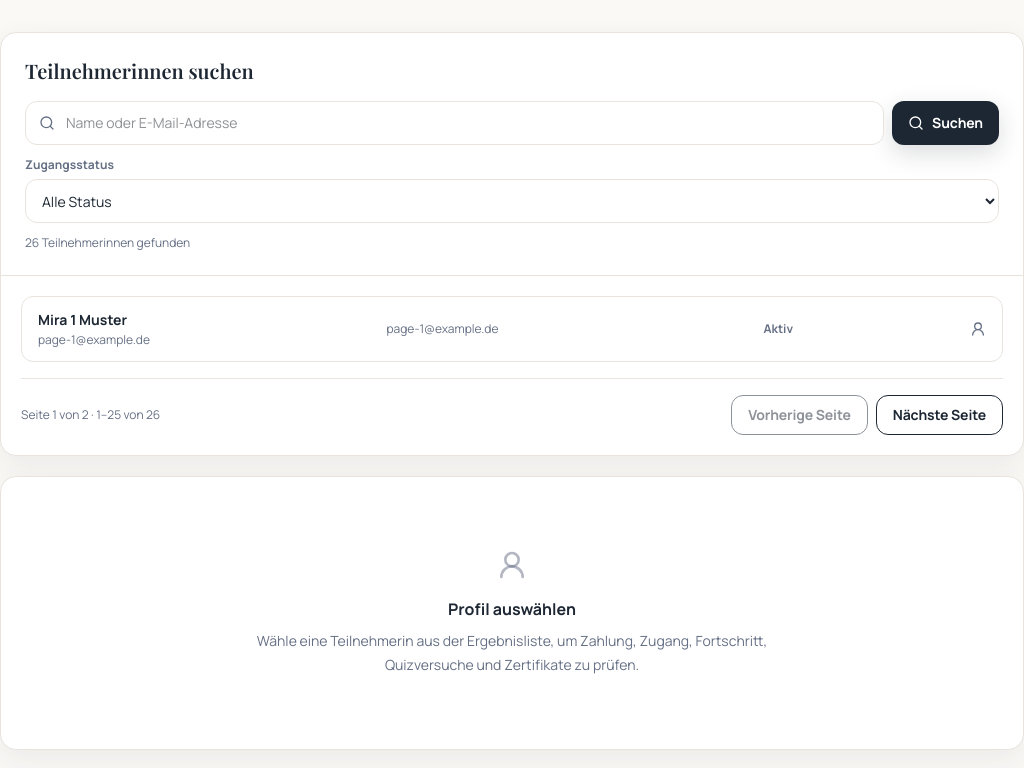
Test case: Admin-Teilnehmerverwaltung › macht Ergebnisse nach dem ersten 25er-Block über die Pagination erreichbar
Expected: the text "Mira 1 Muster" is shown, [38,310,127,329]
Expected: the text "Seite 1 von 2 · 1–25 von 26" is shown, [21,407,160,423]
Click the button "Nächste Seite".
click(939, 415)  # box [876,395,1003,435]
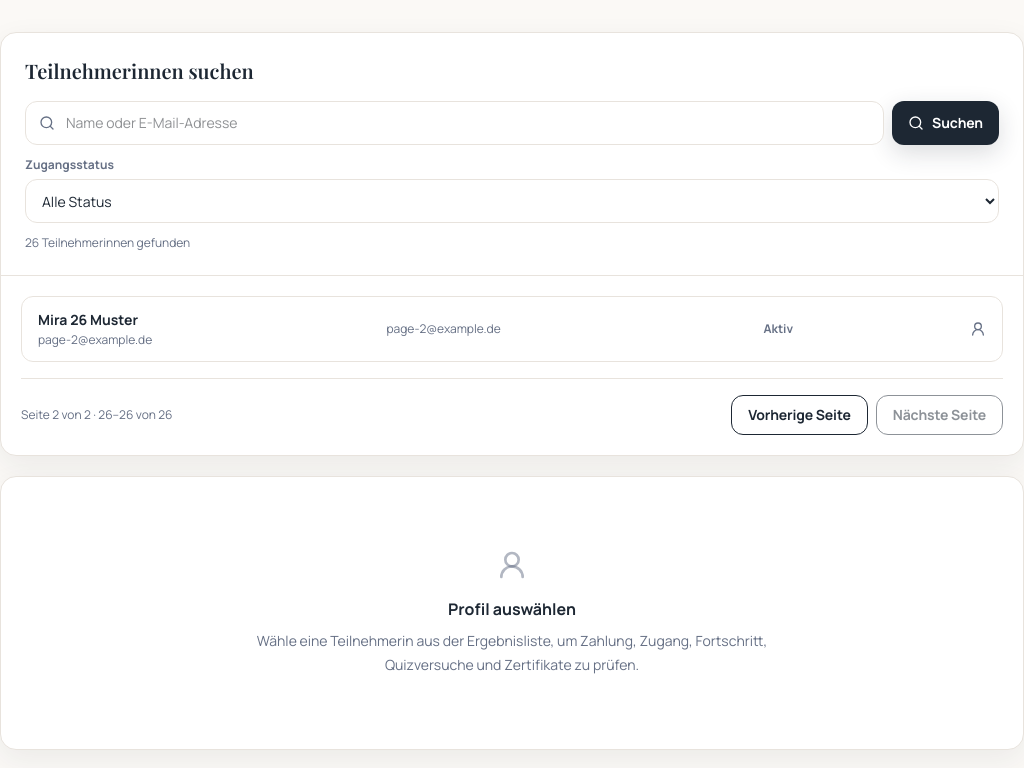
Result: the text "Mira 26 Muster" is shown at [38,310,138,329]
Result: the text "Seite 2 von 2 · 26–26 von 26" is shown at [21,407,173,423]
